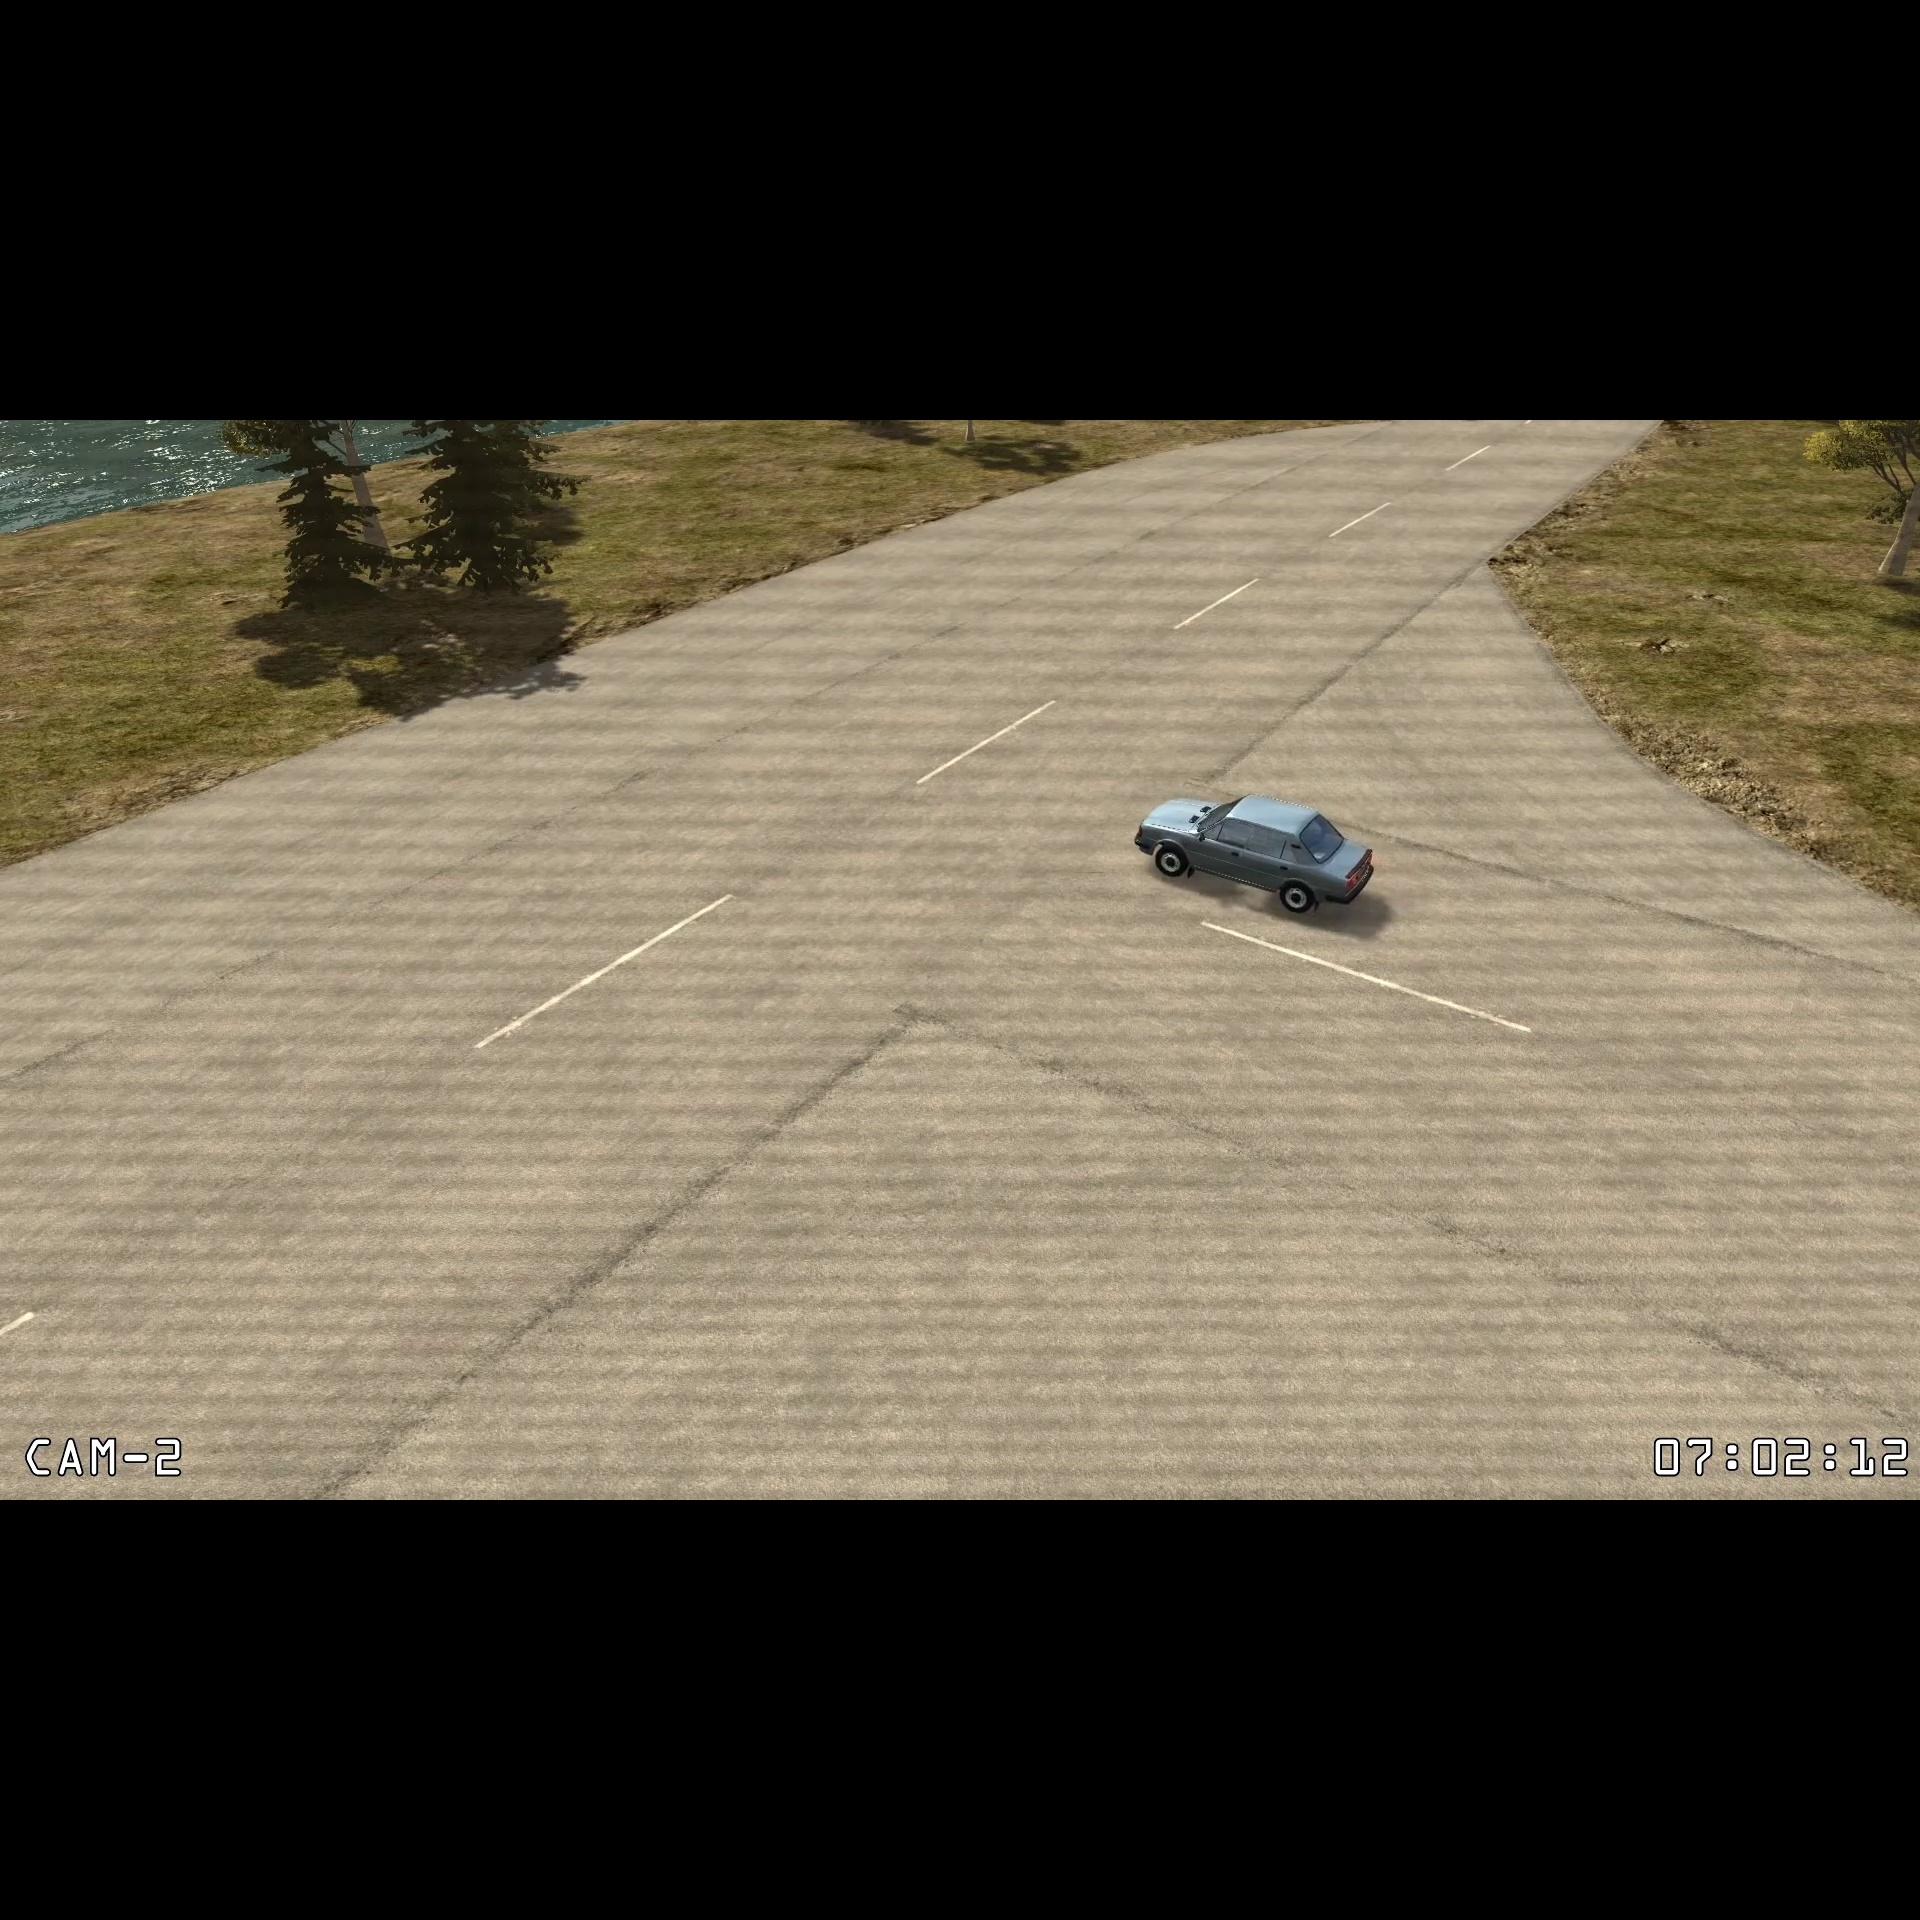vehicle: (1124, 781, 1387, 923)
